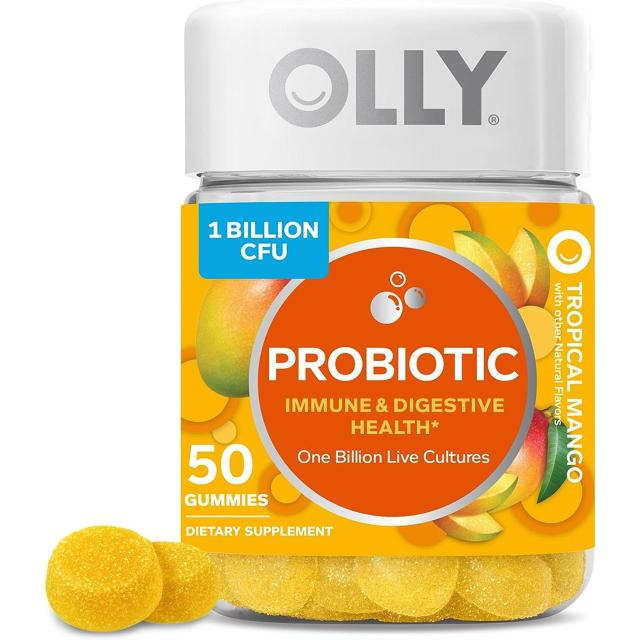lotion-moisture: (183, 200, 590, 598)
medicine: (232, 15, 540, 157)
